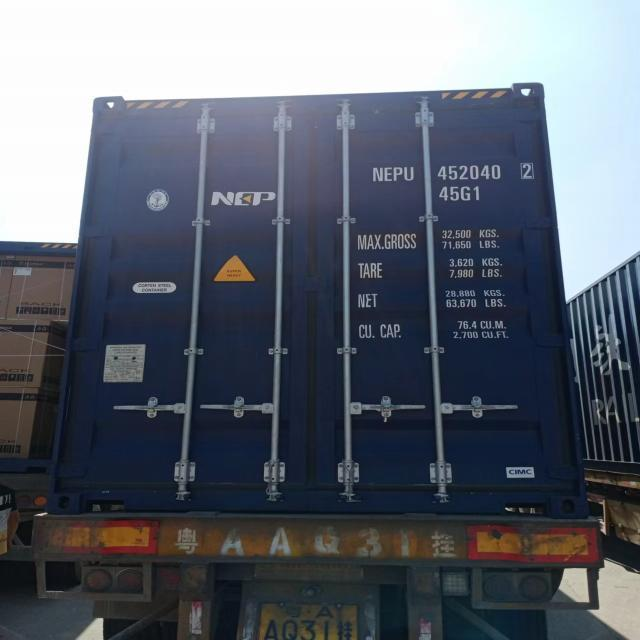ISO: (440, 185, 483, 202)
container_number: (380, 165, 535, 183)
